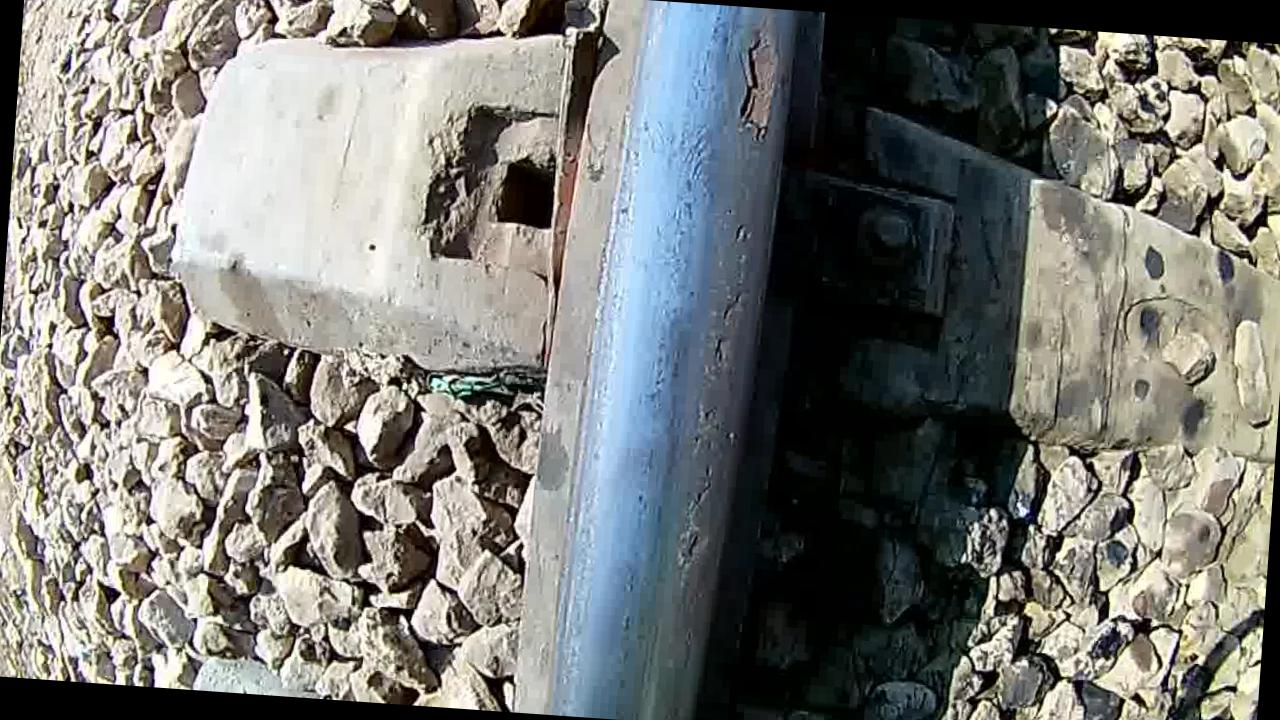crack: (570, 0, 815, 720)
